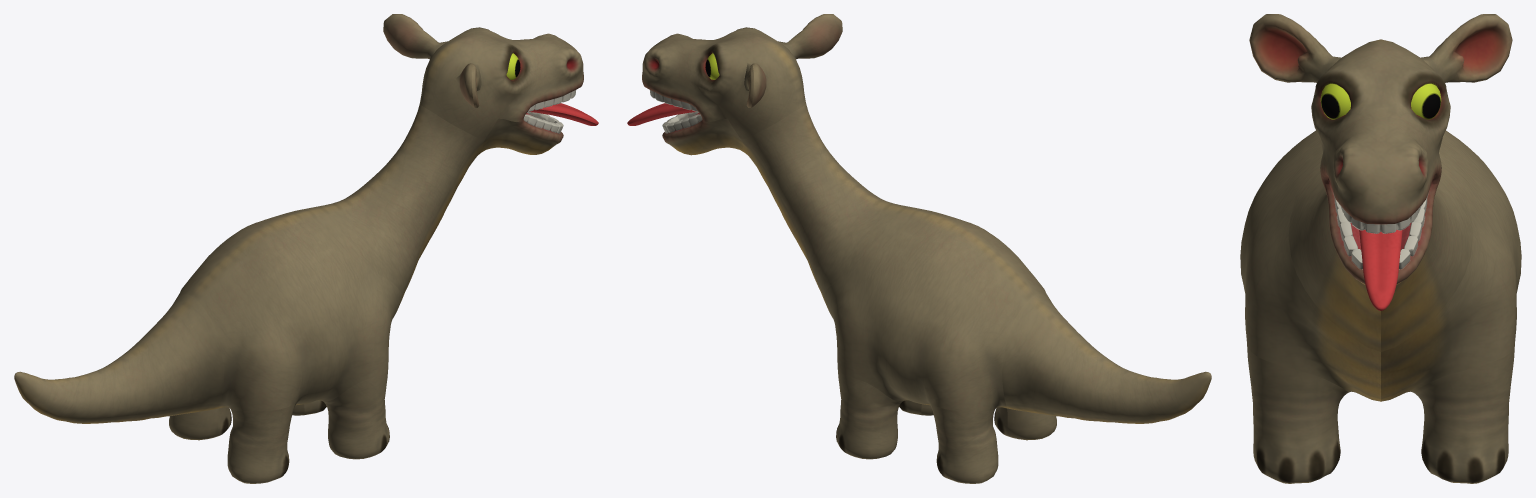
File: dinosaurus.glb
3 views of the same model, side by side, from view 1: azimuth 30°, elevation 25°; view 2: azimuth 150°, elevation 25°; view 3: azimuth 270°, elevation 25° (orthographic). The views are drawn at different scales.
Parts seen in each view (by area): view 1: dinosaurus; view 2: dinosaurus; view 3: dinosaurus.
Part boxes in pixels (x1=…): dinosaurus: x1=14, y1=14, x2=598, y2=483; dinosaurus: x1=627, y1=14, x2=1211, y2=483; dinosaurus: x1=1240, y1=14, x2=1521, y2=483.
Size of the model in its own units: 2.7 by 1.6 by 0.7681.
Materials: 1 (1 with a texture image).
